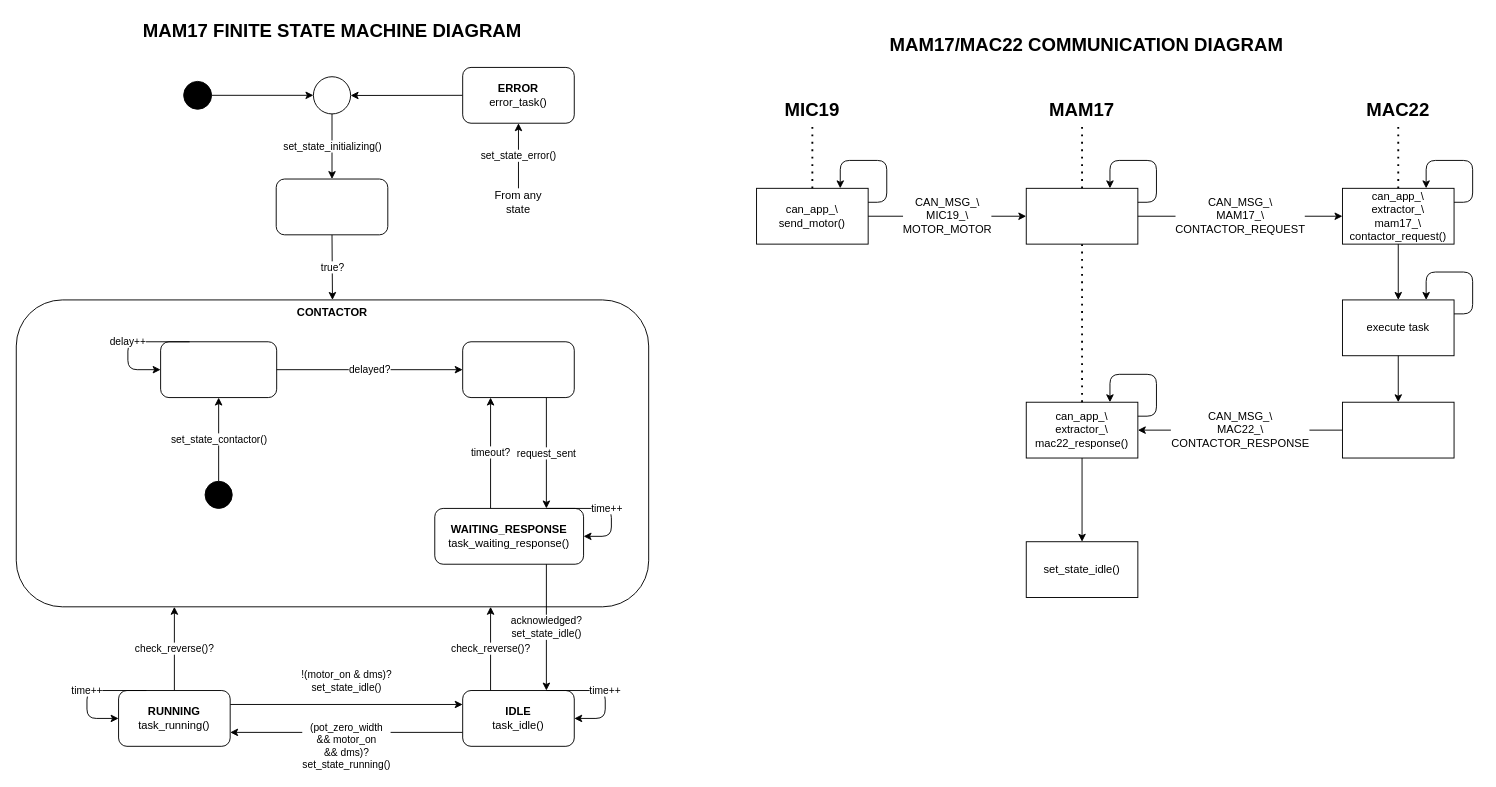
Some shapes in this 1496 by 787 pixel diagram are drawn without their labels. Each missing label, with the centre of its shape:
"can_app_\ extractor_\ mic19_motor()" goes at point (1081, 215).
"INITIALIZING task_initializing()" goes at point (331, 206).
"SEND_REQUEST task_send_request()" goes at point (518, 369).
"task done" goes at point (1398, 429).
"WAITING_MOTOR task_waiting_motor()" goes at point (218, 369).
